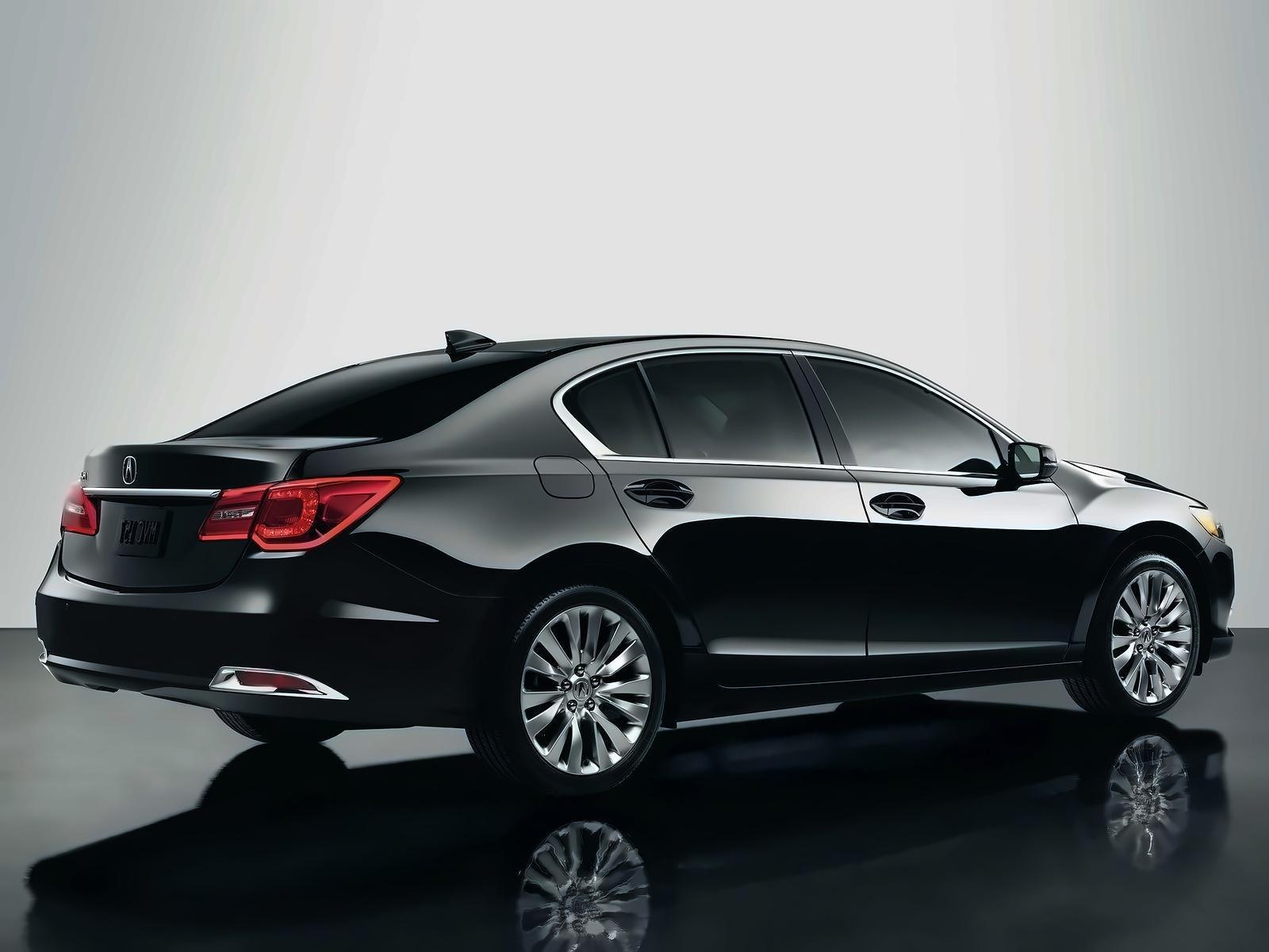Car boot: (48, 419, 368, 588)
Driver-s door - -F-R-: (787, 329, 1097, 712)
Fender - -F-R-: (1049, 452, 1197, 670)
Fender - -R-R-: (365, 376, 678, 727)
Front bumper: (1178, 527, 1241, 684)
Headlight - -R-: (1184, 497, 1224, 540)
Passenger-s door - -R-R-: (552, 306, 864, 731)
Rear bumper: (19, 554, 505, 739)
Rear light - -L-: (53, 478, 108, 536)
Rear light - -R-: (199, 468, 406, 564)
Side bumper - -R-: (654, 605, 1097, 736)
Side mirror - -R-: (985, 429, 1059, 500)
